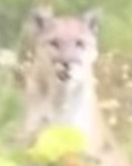Mountain Lion: (18, 8, 114, 123)
